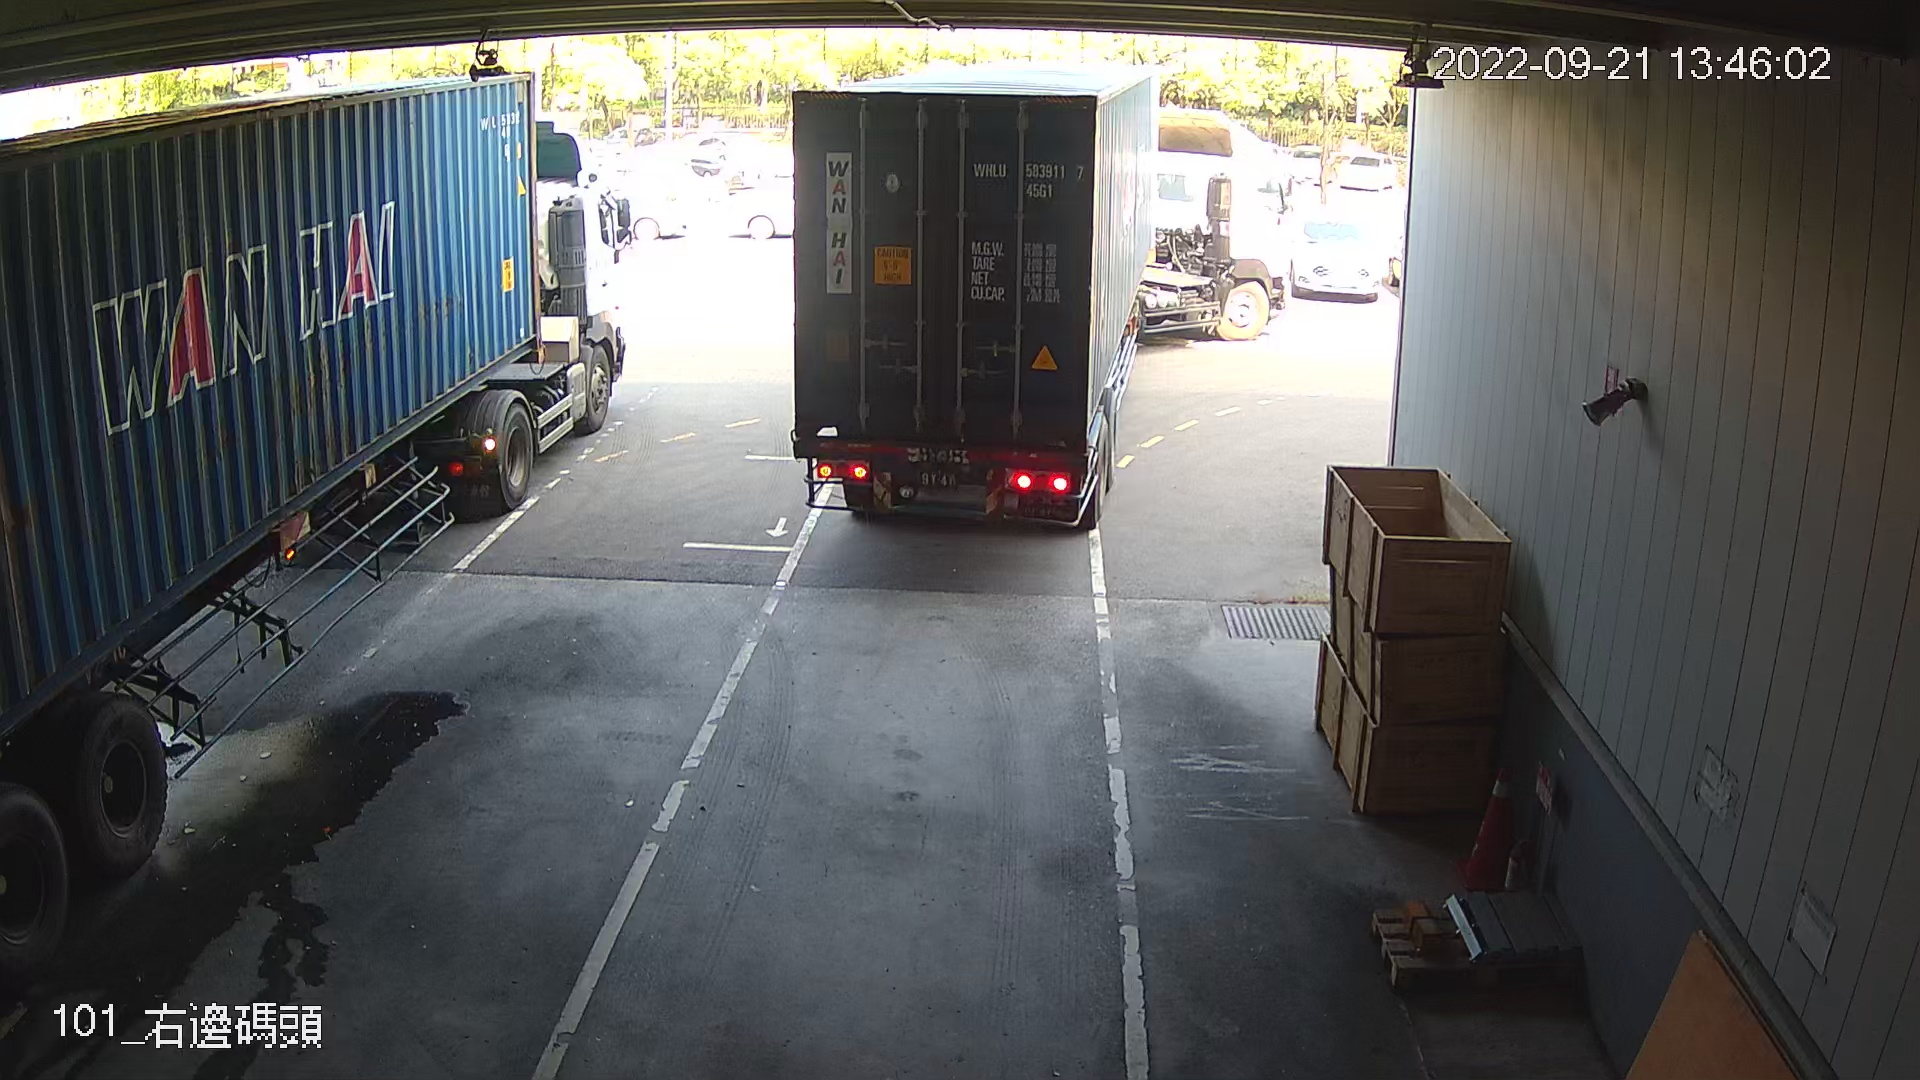container: (967, 156, 1087, 204)
